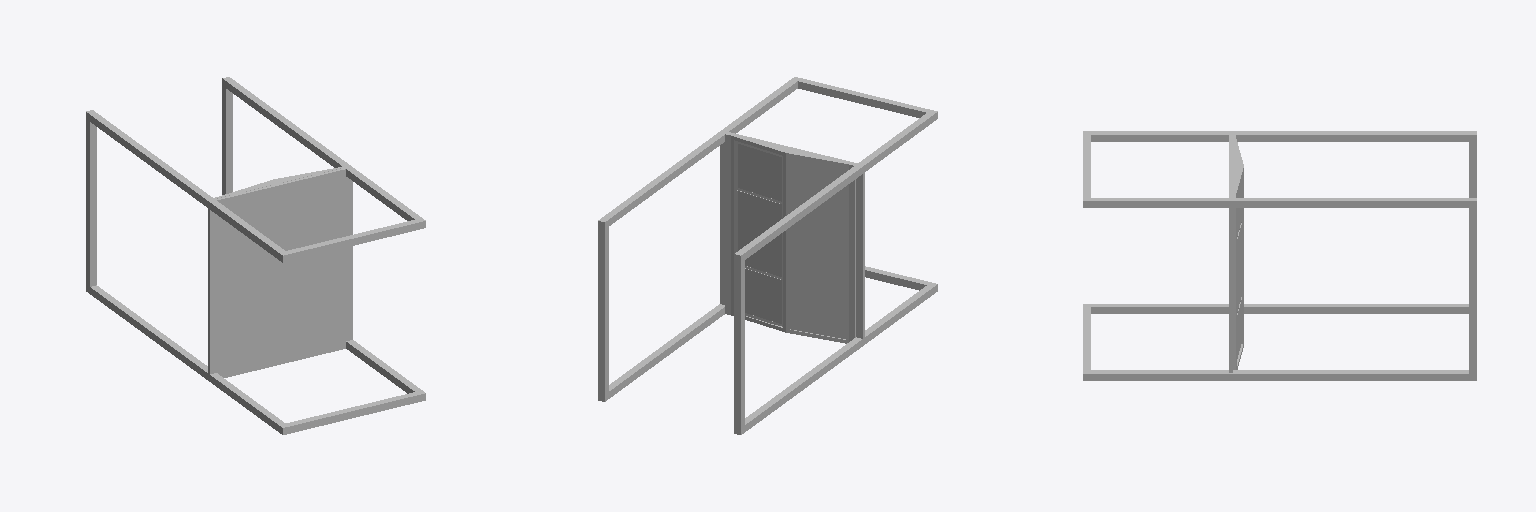
The model's file is teca-spada.obj.
3 views of the same model, side by side, from view 1: azimuth 30°, elevation 25°; view 2: azimuth 150°, elevation 25°; view 3: azimuth 270°, elevation 25° (orthographic).
Size of the model in its own units: 84.15 by 101 by 200.